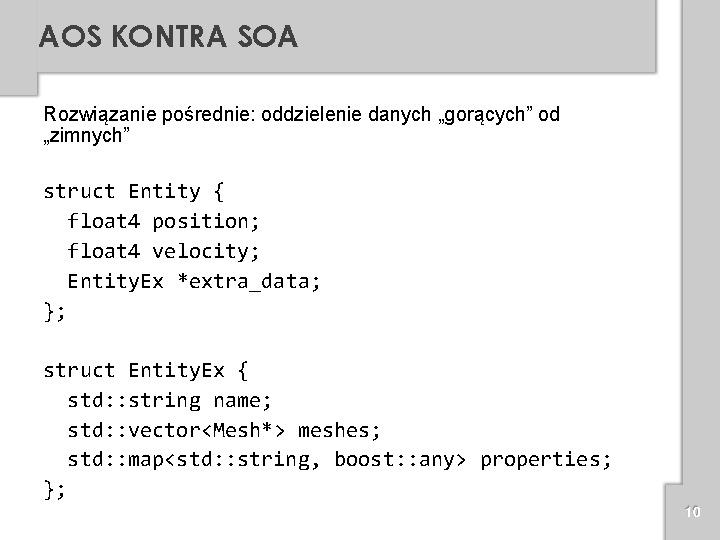paragraph: (17, 86, 640, 512)
title: (28, 11, 319, 63)
